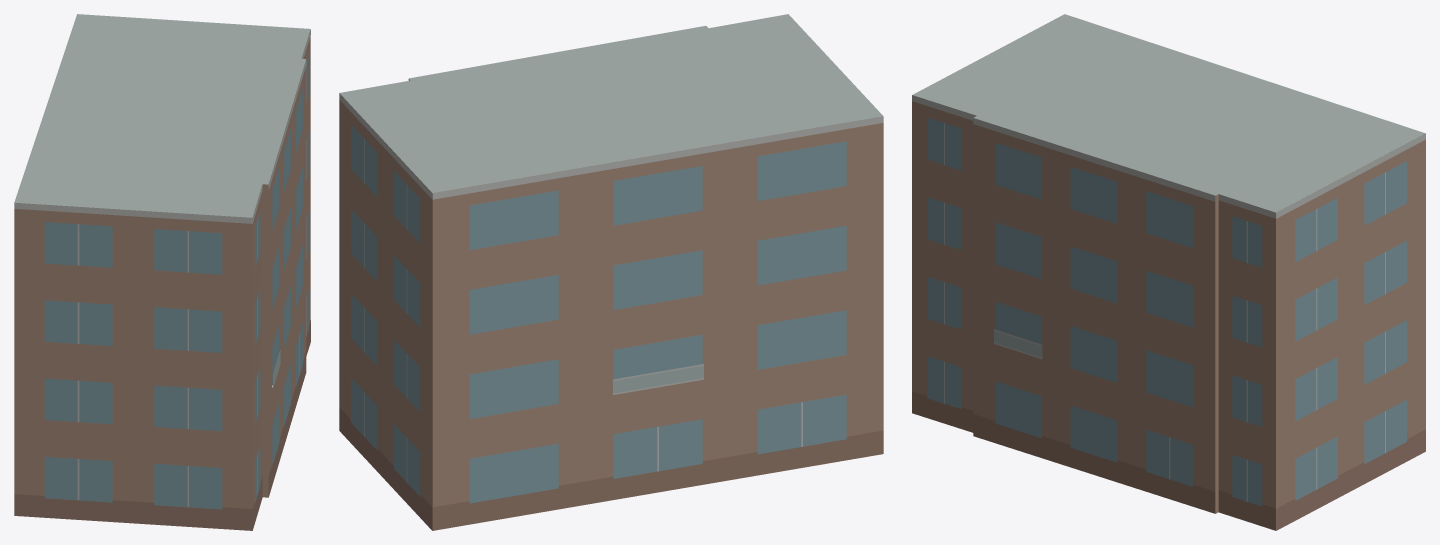
File: survey-upis-32678298.glb
3 renders of one model, left to right at view 1: azimuth 30°, elevation 25°; view 2: azimuth 150°, elevation 25°; view 3: azimuth 270°, elevation 25°, orthographic. The views are drawn at different scales.
Parts seen in each view (by area): view 1: survey-upis-32678298.tmp; view 2: survey-upis-32678298.tmp; view 3: survey-upis-32678298.tmp.
Boxes of the visible parts, box(x1,y1,x2,y2) form: survey-upis-32678298.tmp: box(14, 14, 310, 530); survey-upis-32678298.tmp: box(339, 14, 883, 530); survey-upis-32678298.tmp: box(912, 14, 1425, 530).
Size of the model in its own units: 16.88 by 12.6 by 18.44.
